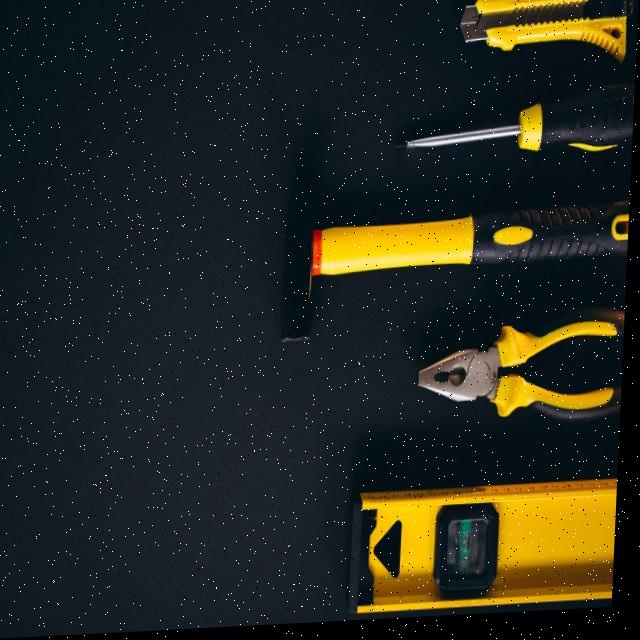Screwdriver: (398, 92, 635, 158)
